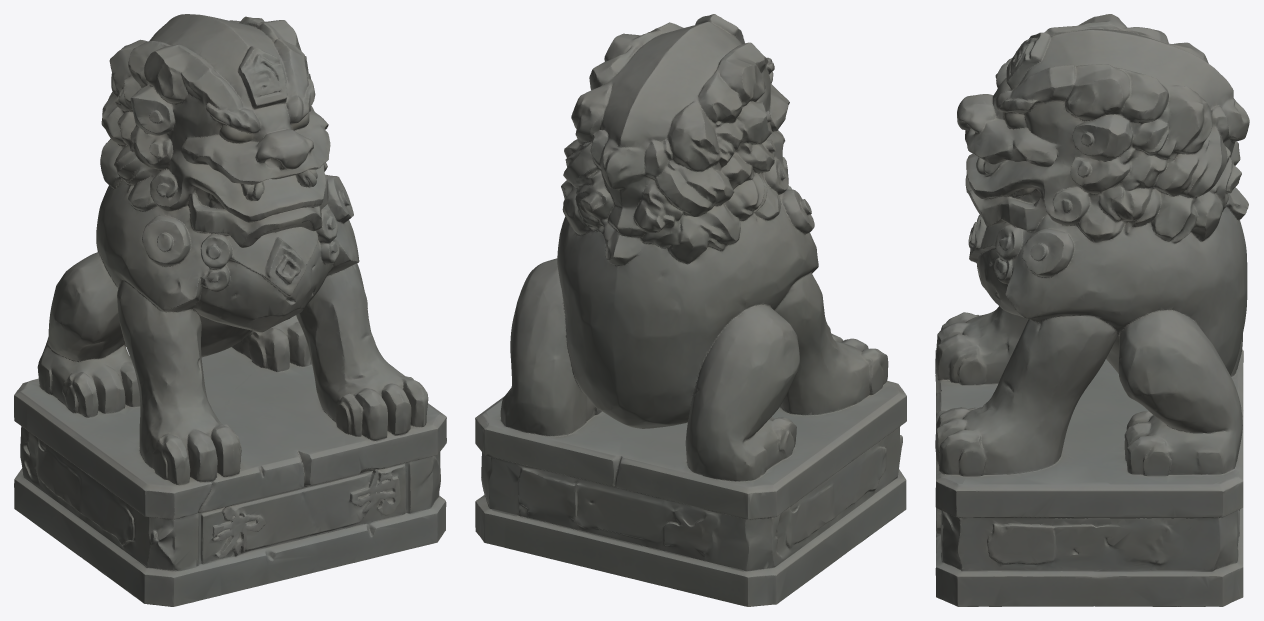
File: leon_piedra.glb
3 renders of one model, left to right at view 1: azimuth 30°, elevation 25°; view 2: azimuth 150°, elevation 25°; view 3: azimuth 270°, elevation 25°, orthographic. The views are drawn at different scales.
Parts seen in each view (by area): view 1: model; view 2: model; view 3: model.
Boxes of the visible parts, x1,y1,x2,y2 form: model: (14, 14, 446, 606); model: (475, 14, 906, 606); model: (935, 14, 1249, 606).
Size of the model in its own units: 1.18 by 1.83 by 1.04.
Materials: 1 (1 with a texture image).
